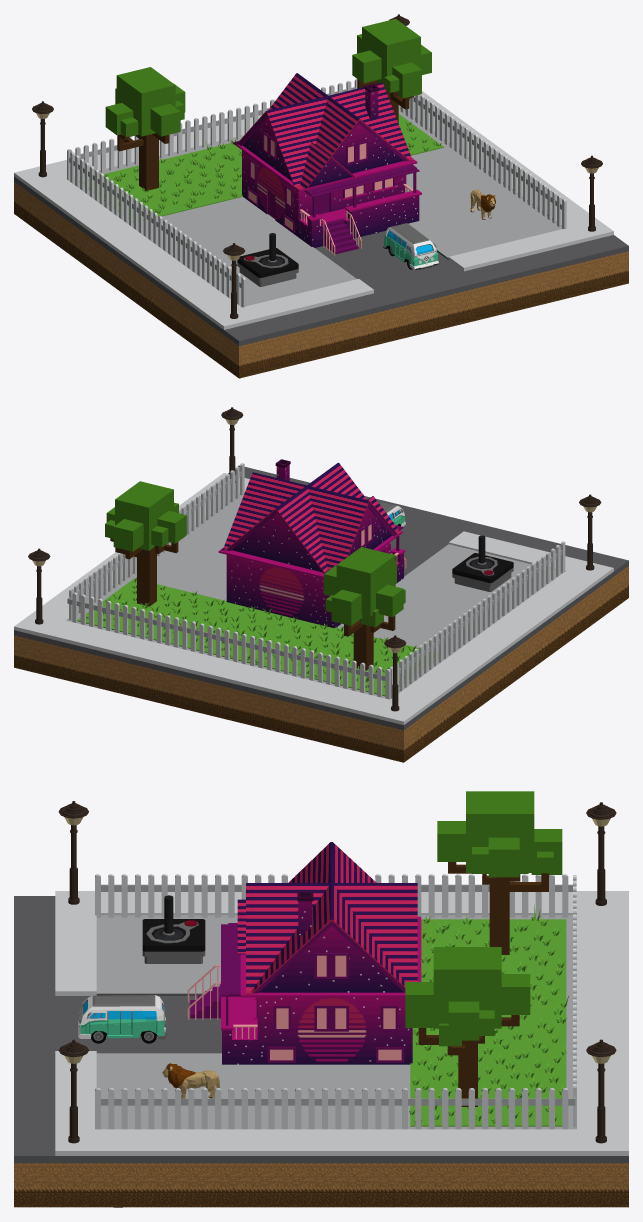
The picture shows the model from 3 angles, top to bottom: view 1: azimuth 30°, elevation 25°; view 2: azimuth 150°, elevation 25°; view 3: azimuth 270°, elevation 25°; orthographic projection. The views are drawn at different scales.
Parts seen in each view (by area): view 1: Cube.004, Cube.156, OBJRANDOM_JOYSTICK, VEHICLES_VAN, ANIMAL_LEON; view 2: Cube.004, Cube.156, OBJRANDOM_JOYSTICK; view 3: Cube.004, Cube.156, VEHICLES_VAN, OBJRANDOM_JOYSTICK, ANIMAL_LEON.
Boxes of the visible parts, x1=… form: Cube.004: x1=14, y1=14, x2=628, y2=378; Cube.156: x1=233, y1=73, x2=421, y2=255; OBJRANDOM_JOYSTICK: x1=237, y1=233, x2=298, y2=286; VEHICLES_VAN: x1=383, y1=223, x2=438, y2=270; ANIMAL_LEON: x1=470, y1=189, x2=495, y2=219; Cube.004: x1=14, y1=407, x2=628, y2=762; Cube.156: x1=218, y1=459, x2=406, y2=627; OBJRANDOM_JOYSTICK: x1=452, y1=535, x2=513, y2=591; Cube.004: x1=14, y1=791, x2=628, y2=1207; Cube.156: x1=187, y1=842, x2=421, y2=1064; VEHICLES_VAN: x1=78, y1=995, x2=166, y2=1043; OBJRANDOM_JOYSTICK: x1=142, y1=895, x2=205, y2=963; ANIMAL_LEON: x1=162, y1=1062, x2=219, y2=1098.
Size of the model in its own units: 4000 by 1574 by 4000.
38 materials, 5 textured.
